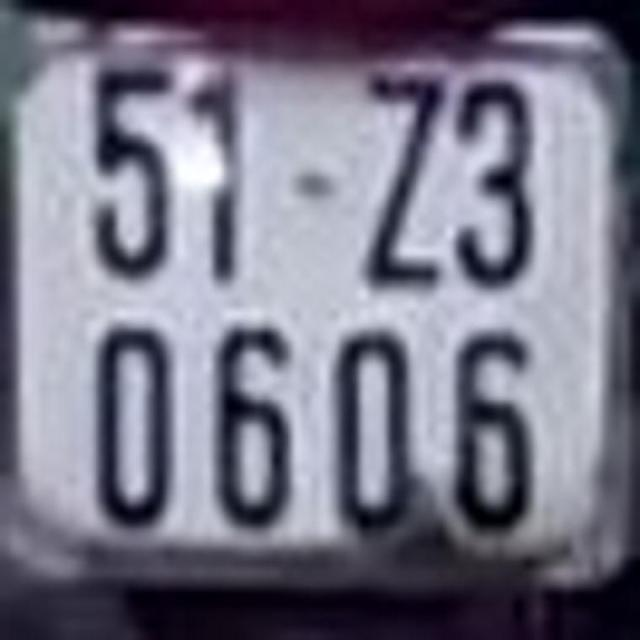0: (91, 319, 176, 528), (329, 318, 410, 536)
1: (183, 62, 248, 284)
3: (453, 61, 531, 286)
5: (94, 62, 173, 276)
6: (448, 320, 535, 537), (211, 316, 295, 532)
Z: (361, 63, 449, 288)
